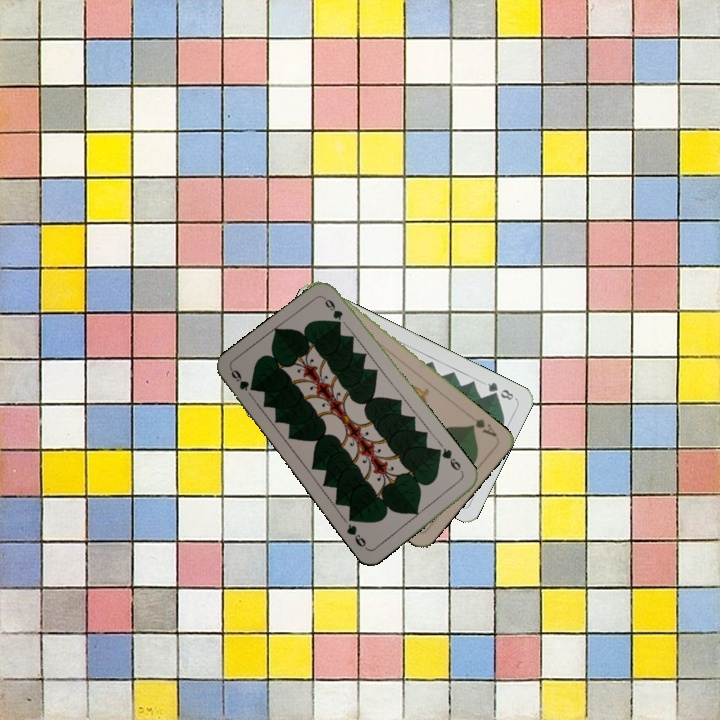G8: (483, 378, 516, 403)
G9: (434, 444, 466, 477), (227, 365, 258, 394)
GA: (465, 411, 499, 439)
